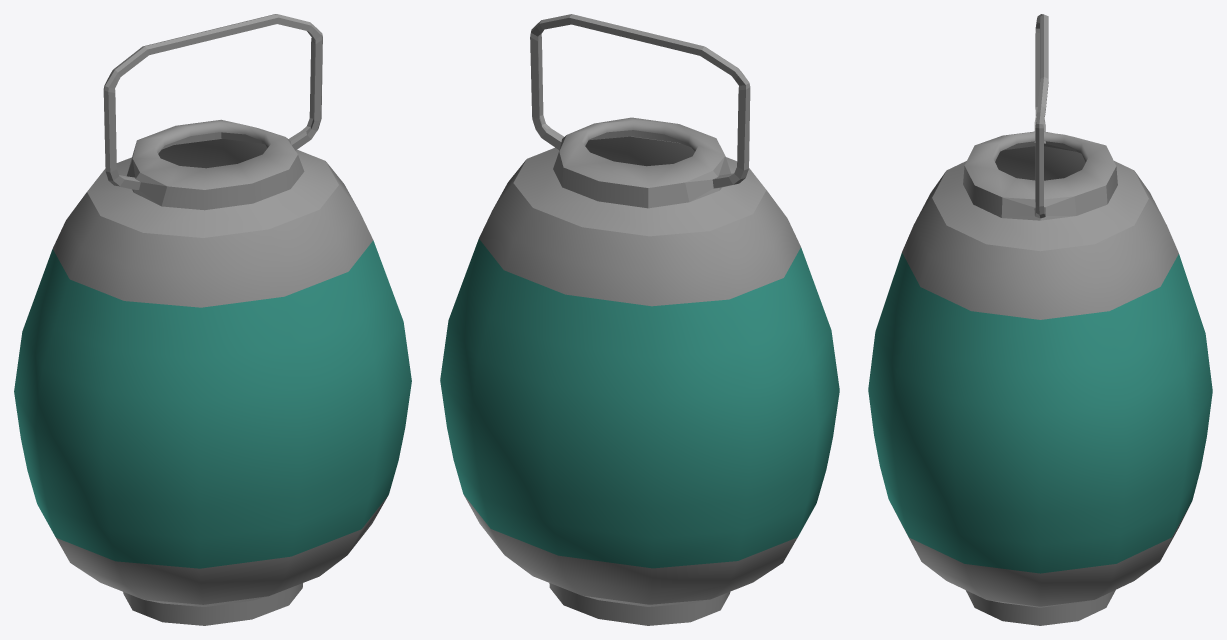
Rendered from Lantern_fixed_1 alt.FBX.
The picture shows the model from 3 angles, left to right: view 1: azimuth 30°, elevation 25°; view 2: azimuth 150°, elevation 25°; view 3: azimuth 270°, elevation 25°; orthographic projection. The views are drawn at different scales.
Parts seen in each view (by area): view 1: Capsule001; view 2: Capsule001; view 3: Capsule001.
Part boxes in pixels (x1,y1,x2,y2): Capsule001: (14,14,411,625); Capsule001: (440,14,839,625); Capsule001: (868,14,1212,625).
Bounding box in the file's own units: 55.24 × 84.47 × 47.85.
